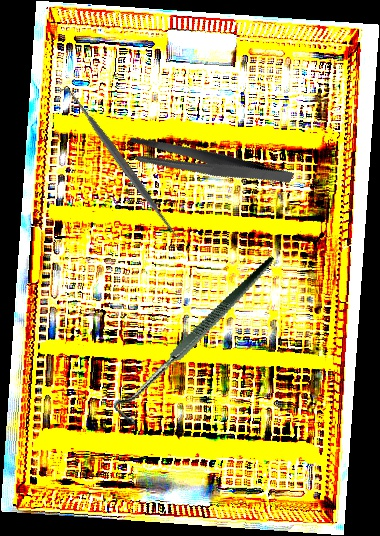Dressing Forceps: (123, 102, 295, 225)
Hook Surgical: (85, 255, 309, 430)
Spatula Surgical: (57, 79, 186, 246)
